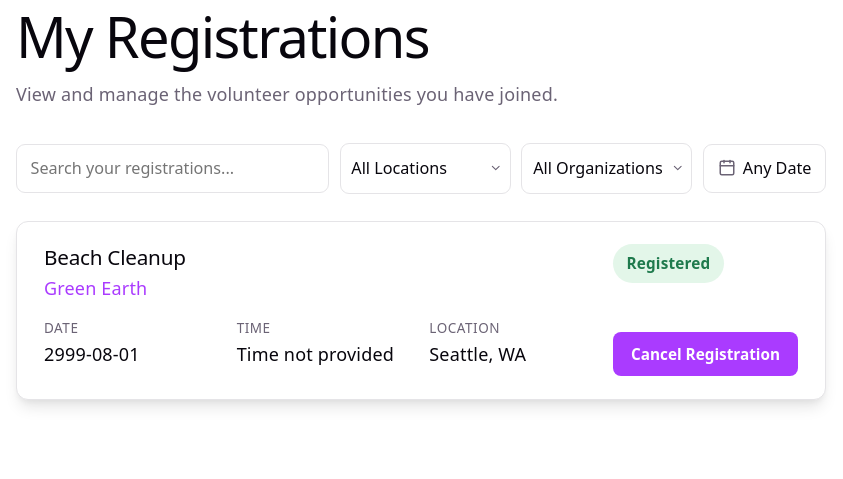
Test: MyRegistrationsPage › shows an error message when cancellation fails
Expected: the heading "Beach Cleanup" is shown, x1=44 y1=243 x2=186 y2=271
Step 1. Click the button "Cancel Registration" → [706, 354], box x1=613 y1=332 x2=798 y2=376
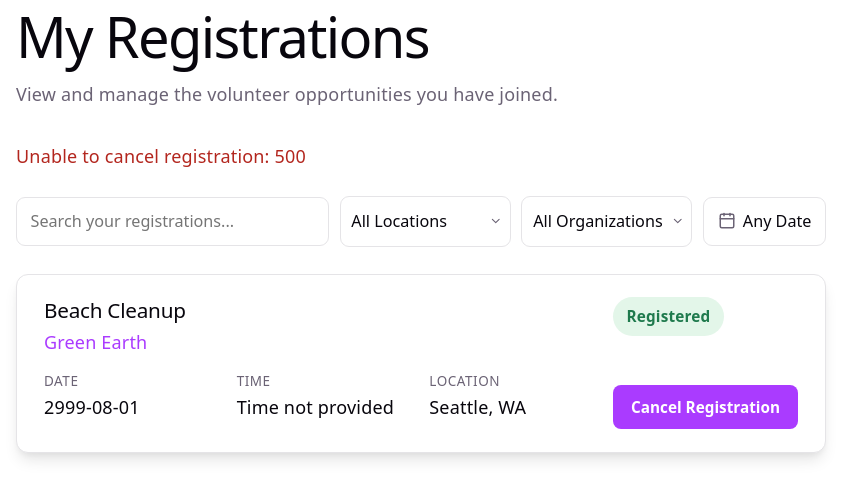
Expected: the text "Unable to cancel registration: 500" is shown, x1=16 y1=144 x2=306 y2=168
